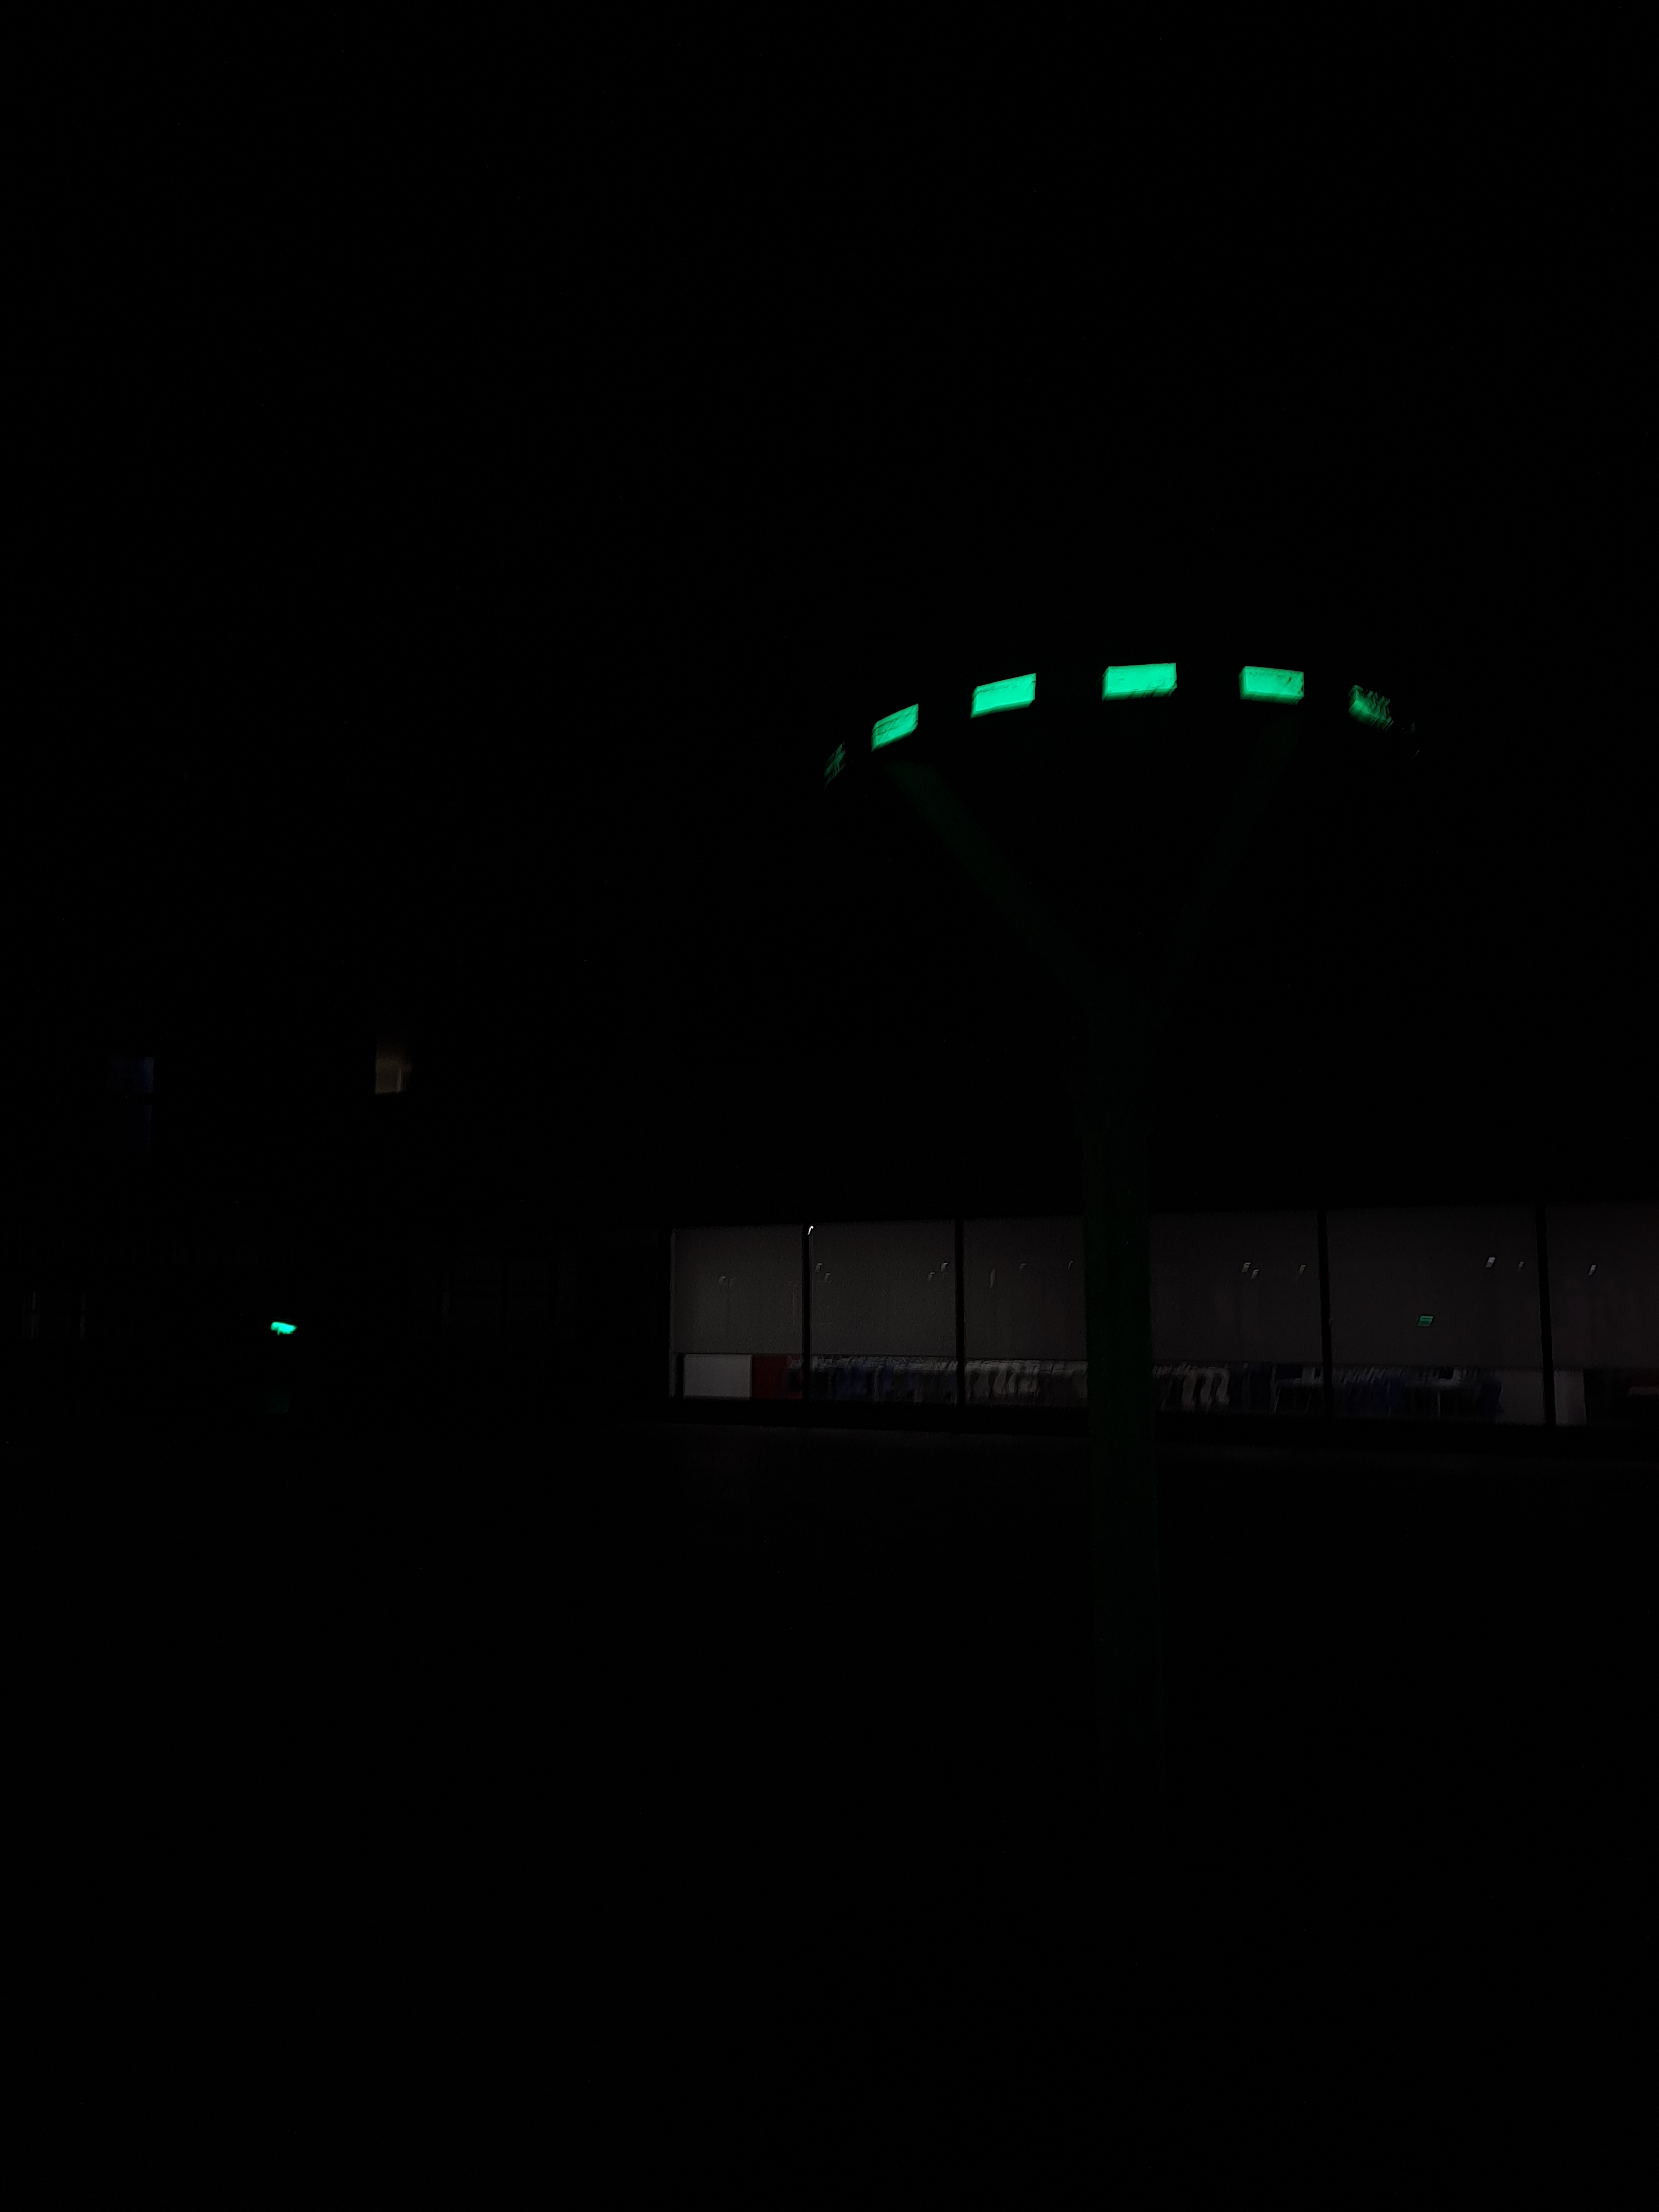hoop: (861, 655, 1399, 749)
